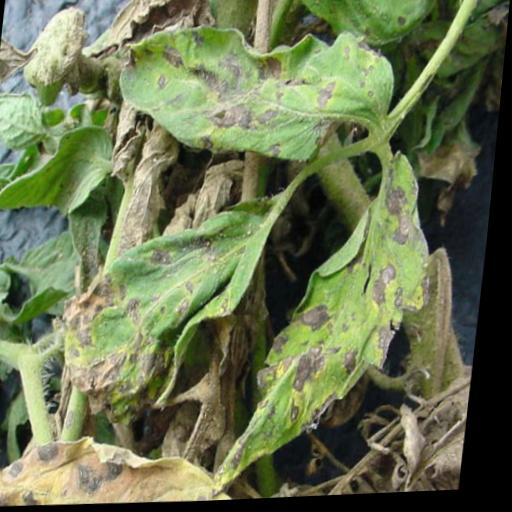Late Blight: (216, 144, 450, 500), (69, 191, 285, 410), (104, 23, 405, 171)
